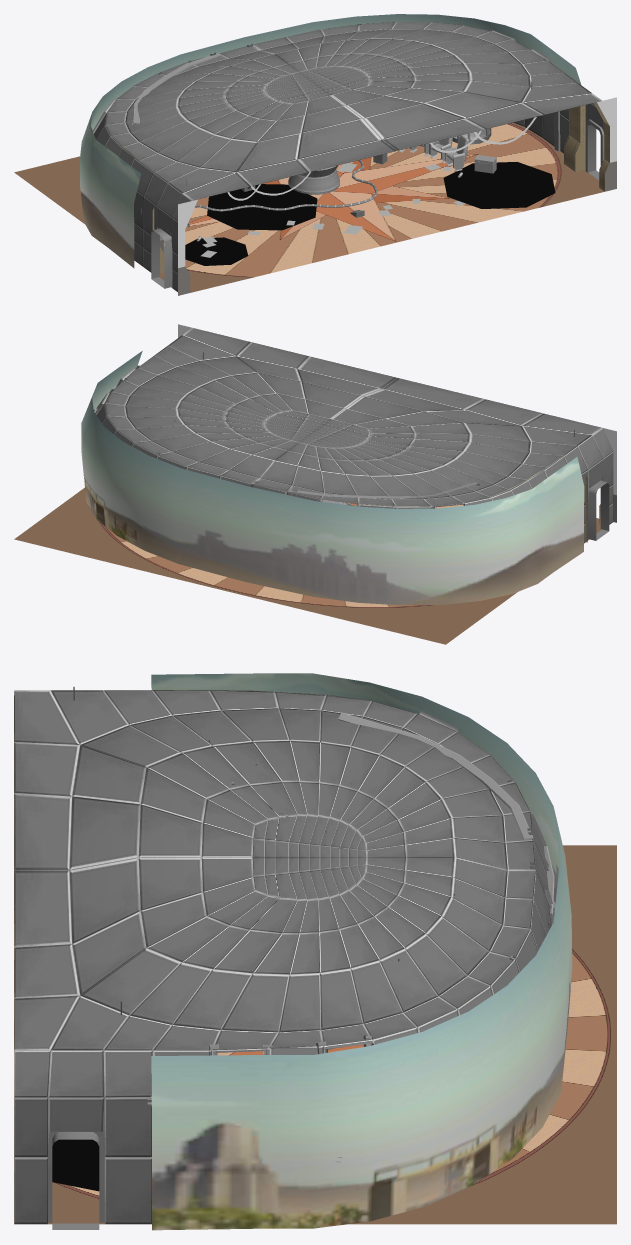
File: MSH_QuestObservatoryMain_L1_R3_optimized.fbx
3 renders of one model, top to bottom at view 1: azimuth 30°, elevation 25°; view 2: azimuth 150°, elevation 25°; view 3: azimuth 270°, elevation 25°, orthographic. The views are drawn at different scales.
Parts seen in each view (by area): view 1: lightmap1, lightmap4, MSH_QuestObservatoryMain_L1_R3_Decals_02, MSH_QuestObservatoryMain_L1_R3_Decals_01, lightmap2, lightmap0, lightmap3, MSH_QuestObservatoryMain_L1_R3_Black_01; view 2: lightmap1, MSH_QuestObservatoryMain_L1_R3_Decals_02, lightmap4, lightmap2, lightmap0, lightmap3, MSH_QuestObservatoryMain_L1_R3_Black_01; view 3: lightmap1, MSH_QuestObservatoryMain_L1_R3_Decals_02, lightmap4, lightmap2, lightmap3, MSH_QuestObservatoryMain_L1_R3_Decals_01, lightmap0.
Part boxes in pixels (bbox=[...]): lightmap1: bbox=[105, 22, 601, 200]; lightmap4: bbox=[14, 122, 604, 292]; MSH_QuestObservatoryMain_L1_R3_Decals_02: bbox=[80, 14, 581, 268]; MSH_QuestObservatoryMain_L1_R3_Decals_01: bbox=[105, 73, 555, 265]; lightmap2: bbox=[93, 30, 604, 291]; lightmap0: bbox=[151, 79, 609, 288]; lightmap3: bbox=[132, 24, 560, 253]; MSH_QuestObservatoryMain_L1_R3_Black_01: bbox=[178, 97, 616, 295]; lightmap1: bbox=[105, 328, 601, 506]; MSH_QuestObservatoryMain_L1_R3_Decals_02: bbox=[81, 351, 584, 605]; lightmap4: bbox=[14, 487, 600, 644]; lightmap2: bbox=[93, 368, 613, 542]; lightmap0: bbox=[316, 435, 609, 542]; lightmap3: bbox=[94, 352, 574, 505]; MSH_QuestObservatoryMain_L1_R3_Black_01: bbox=[178, 324, 616, 522]; lightmap1: bbox=[14, 690, 535, 1050]; MSH_QuestObservatoryMain_L1_R3_Decals_02: bbox=[151, 673, 572, 1230]; lightmap4: bbox=[14, 845, 616, 1224]; lightmap2: bbox=[14, 690, 551, 1224]; lightmap3: bbox=[73, 686, 555, 1162]; MSH_QuestObservatoryMain_L1_R3_Decals_01: bbox=[52, 690, 514, 1191]; lightmap0: bbox=[14, 695, 342, 1229].
Bounding box in the file's own units: 31.41 × 6.83 × 20.23.
Materials: 8 (6 with a texture image).
